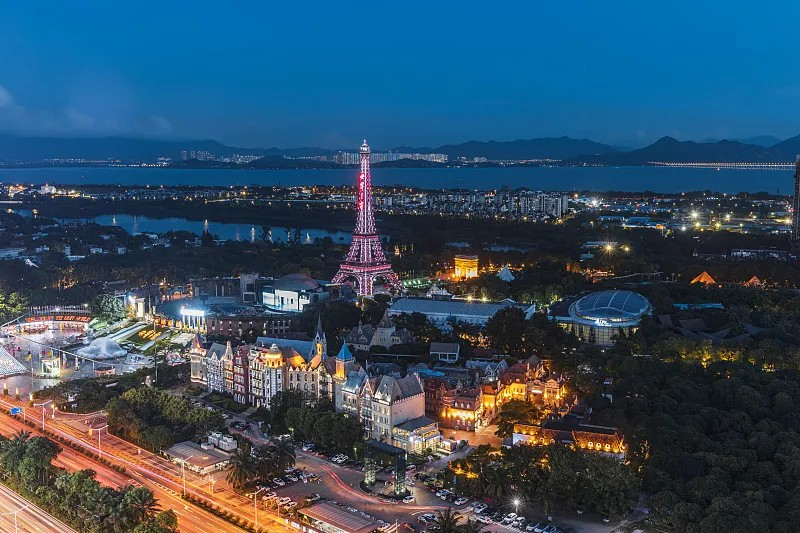Eiffel: (330, 138, 404, 300)
